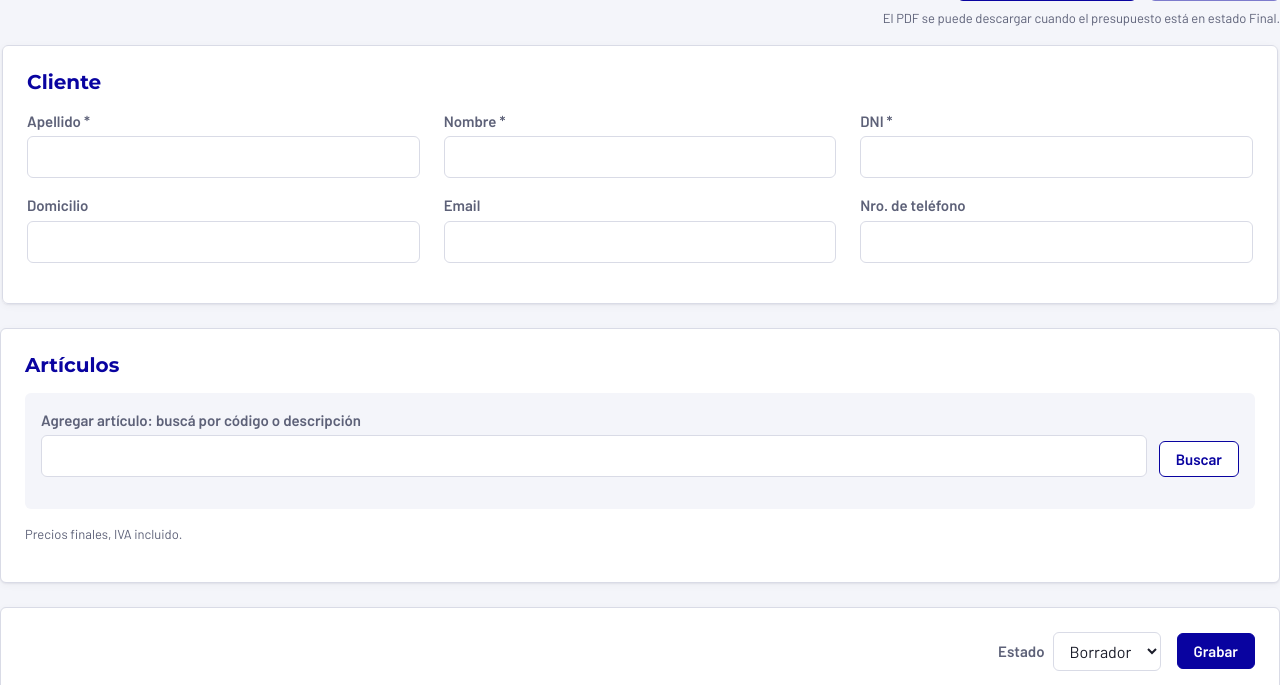
Scenario: pantalla de presupuesto › AC-34: sin DNI no graba y muestra el mensaje junto al campo
The image size is (1280, 685).
In the search field labelled "Agregar artículo: buscá por código o descripción": (594, 456) [41,435,1147,477], type "armazon"
Click the button "Buscar": click(1199, 459) [1159,441,1239,477]
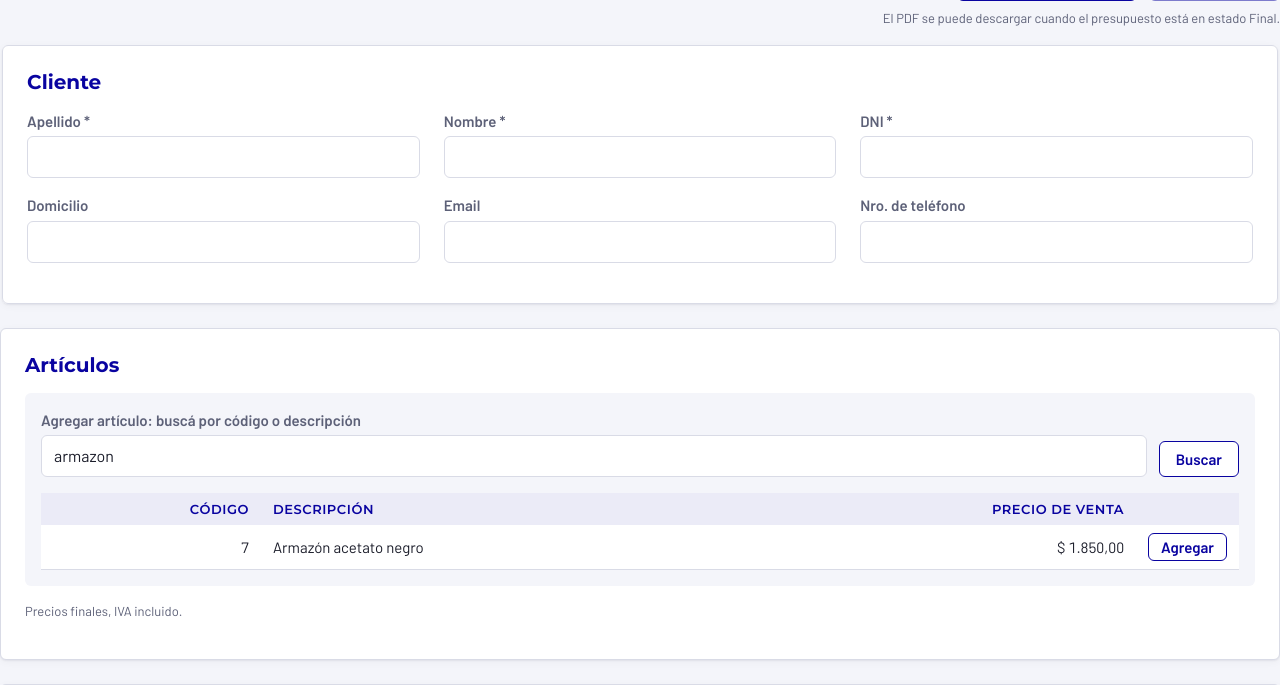
Click the button "Agregar": click(1188, 547) [1148,533,1227,561]
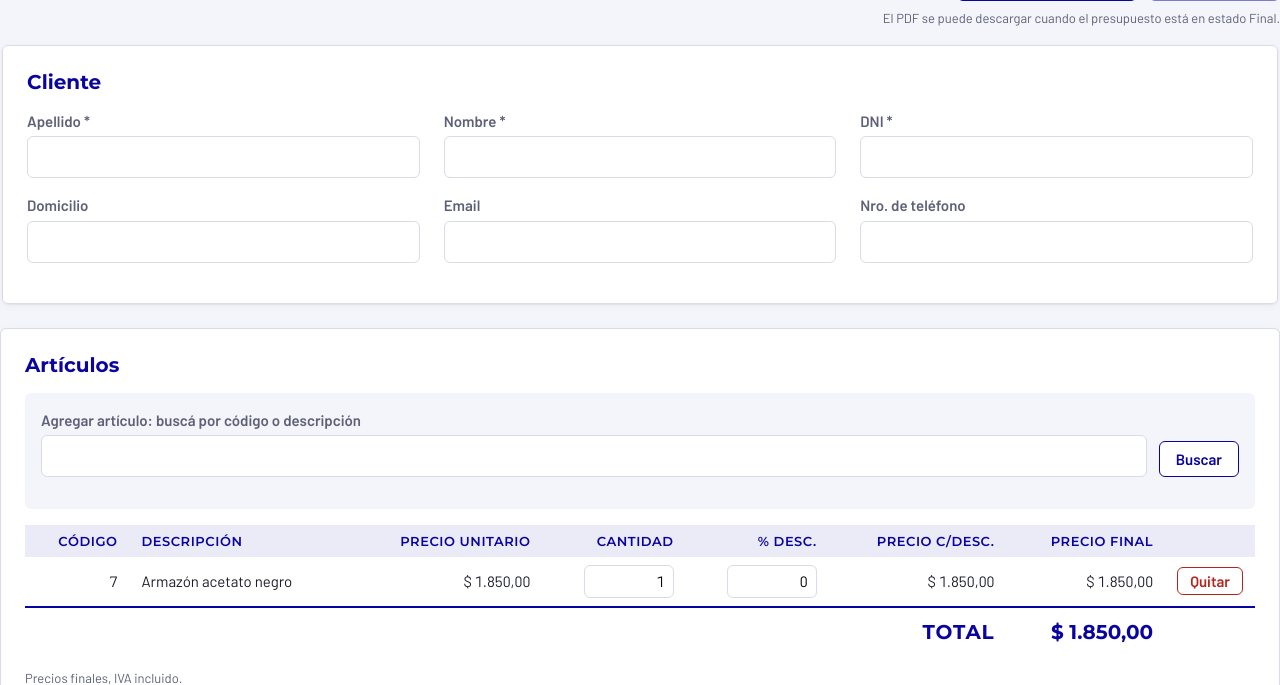
In the field labelled "Apellido *": (223, 157) [27,136,420,178], type "González"
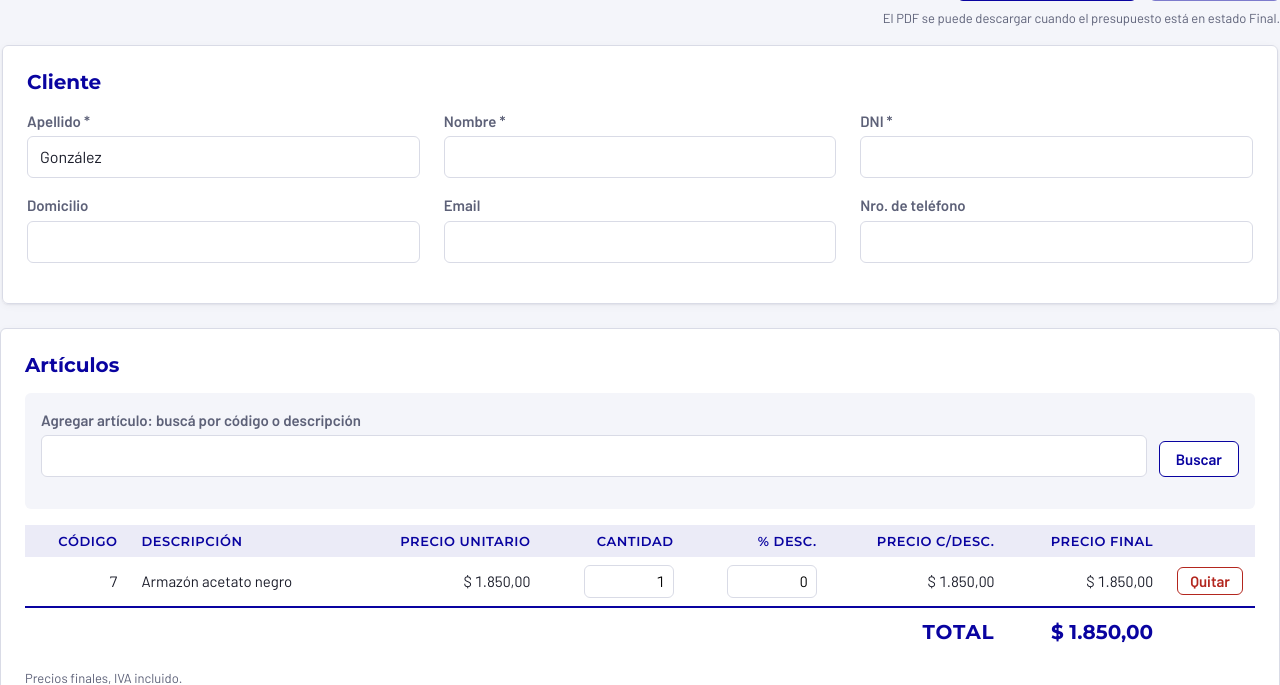
In the field labelled "Nombre *": (640, 157) [444,136,836,178], type "María"
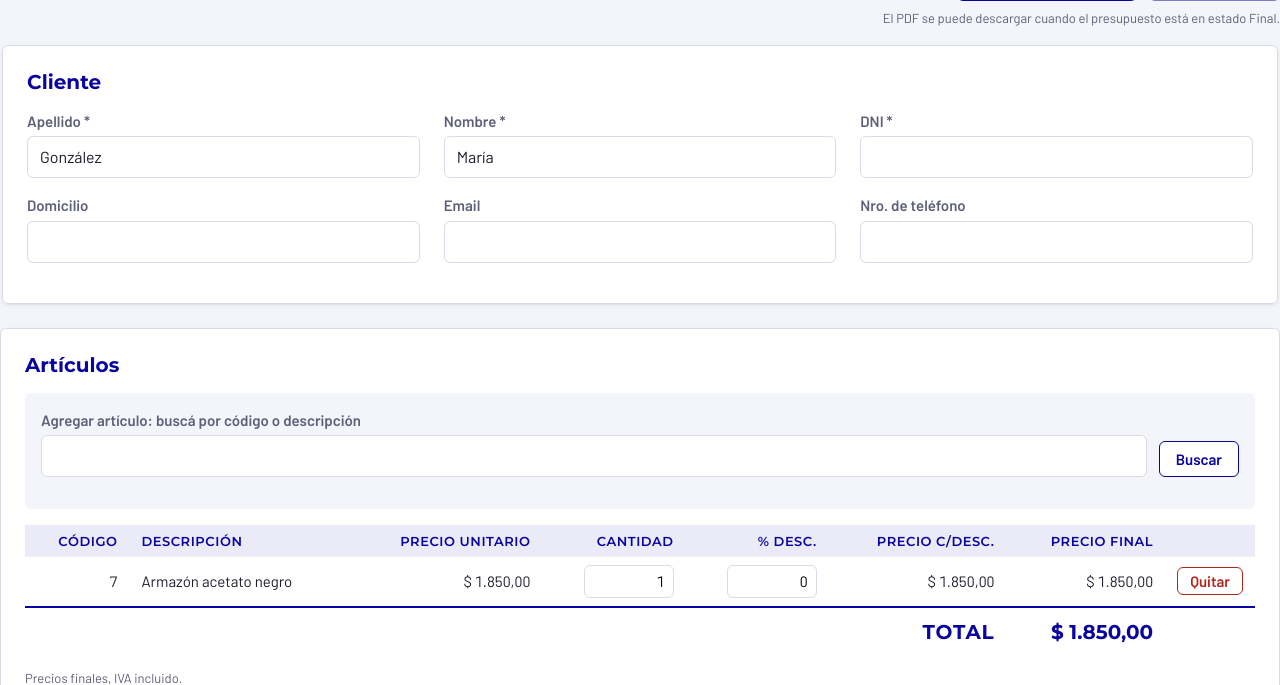
Clear the field labelled "DNI *": (1057, 157) [860,136,1253,178]
(page scrolled)
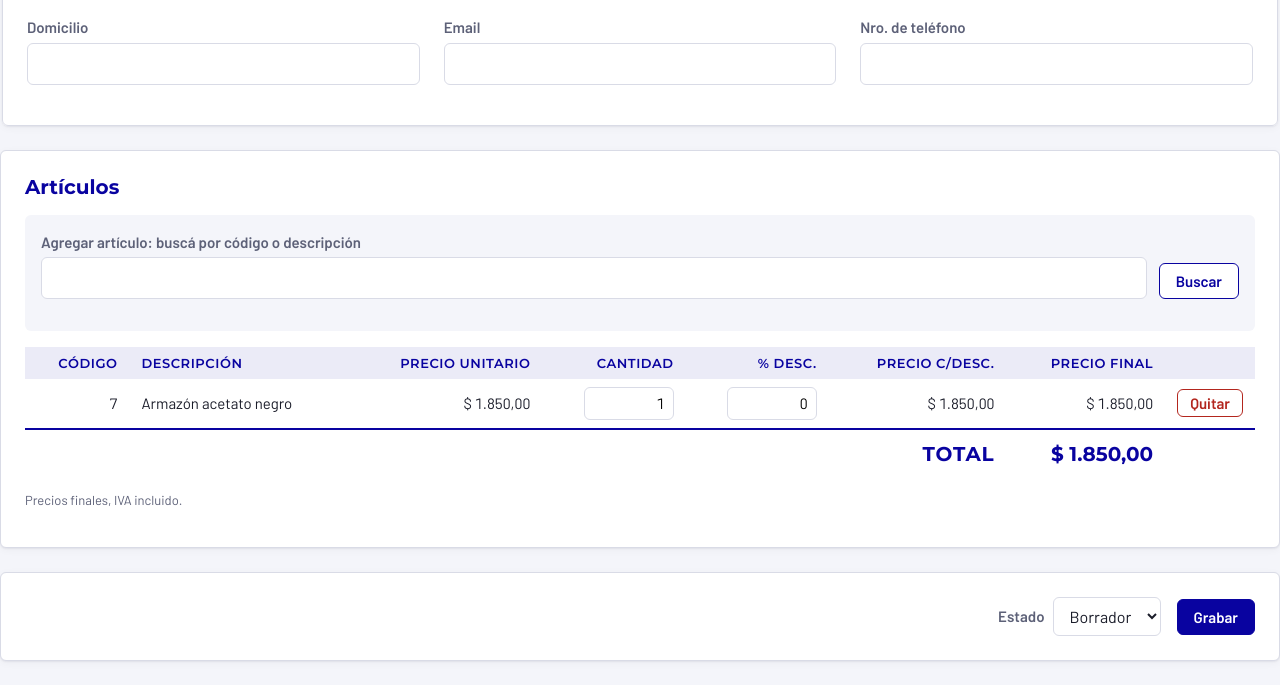
Click the button "Grabar": click(1216, 616) [1176,598,1255,634]
(page scrolled)
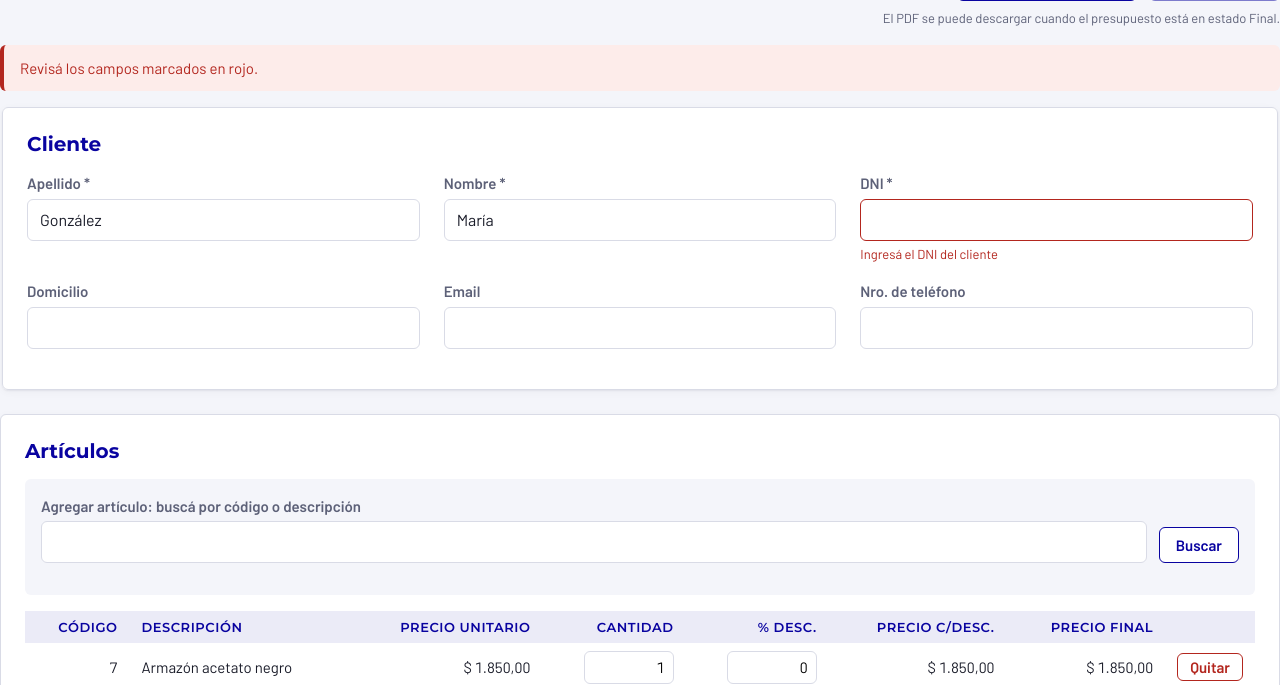
Result: the text "Ingresá el DNI del cliente" is shown at [860,246,998,262]
